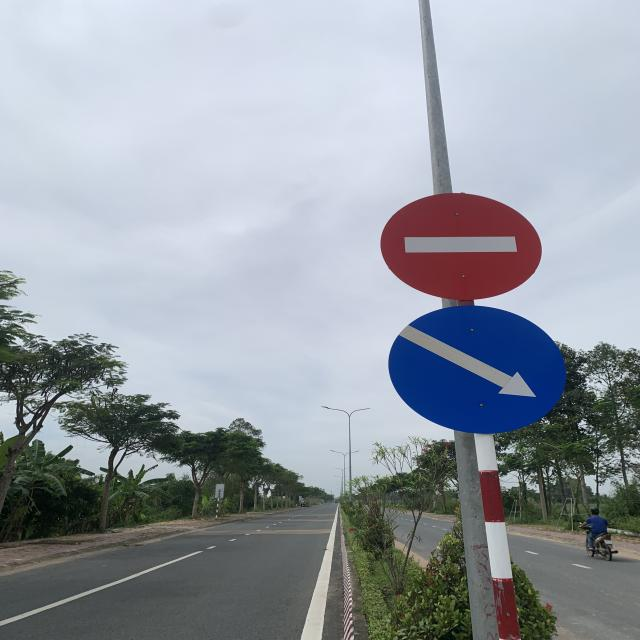Cam_Di_Nguoc_Chieu: (376, 192, 547, 300)
Chi_Huong_Di_Phai: (389, 305, 566, 434)
